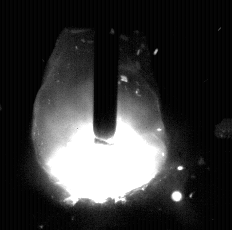arame: (94, 0, 118, 139)
poca: (32, 0, 168, 230)
